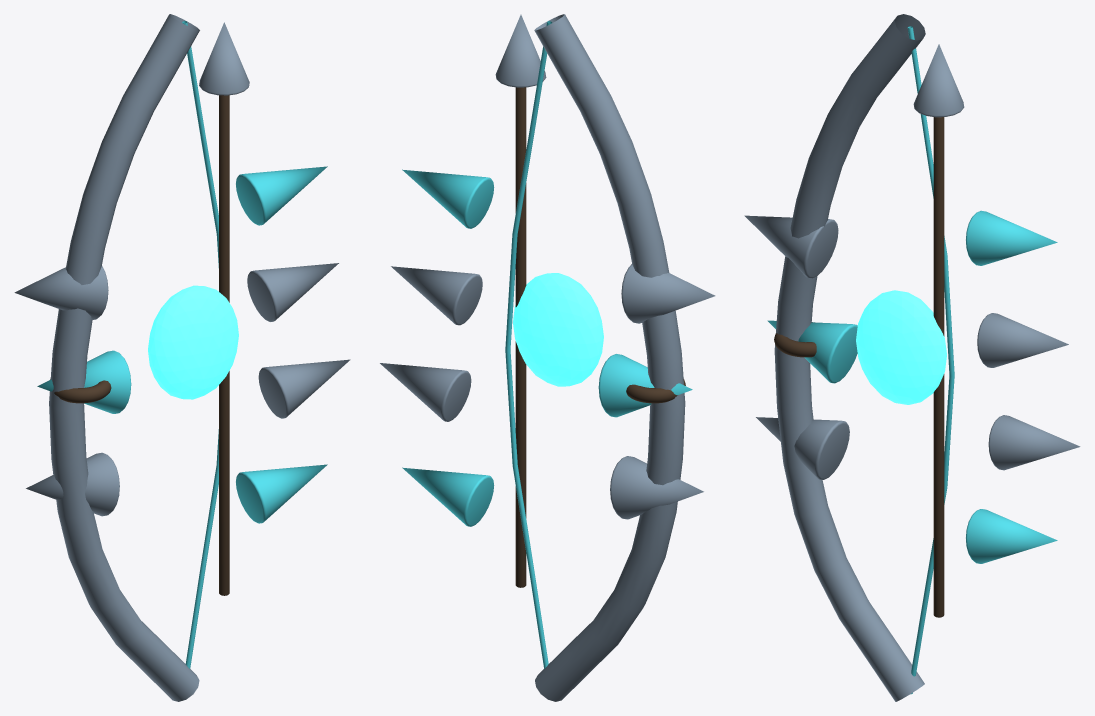
Rendered from bow_v3.glb.
The picture shows the model from 3 angles, left to right: view 1: azimuth 30°, elevation 25°; view 2: azimuth 150°, elevation 25°; view 3: azimuth 330°, elevation 25°; orthographic projection.
Visible parts, largest first — view 1: BOW_BODY_PRIMARY, VARIANT_CORE_EMISSIVE, ARROW_SECONDARY, VARIANT_SPINE_PRIMARY.001, VARIANT_SPINE_ACCENT, VARIANT_SPINE_PRIMARY.002, VARIANT_SPINE_ACCENT.002, VARIANT_SPINE_PRIMARY.003, BOW_STRING_ACCENT, VARIANT_SPINE_PRIMARY, VARIANT_SPINE_ACCENT.001, ARROW_HEAD_PRIMARY (+1 smaller); view 2: BOW_BODY_PRIMARY, VARIANT_CORE_EMISSIVE, ARROW_SECONDARY, BOW_STRING_ACCENT, VARIANT_SPINE_PRIMARY.003, VARIANT_SPINE_PRIMARY, VARIANT_SPINE_PRIMARY.002, VARIANT_SPINE_ACCENT, VARIANT_SPINE_ACCENT.002, VARIANT_SPINE_PRIMARY.001, VARIANT_SPINE_ACCENT.001, ARROW_HEAD_PRIMARY (+1 smaller); view 3: BOW_BODY_PRIMARY, VARIANT_CORE_EMISSIVE, ARROW_SECONDARY, VARIANT_SPINE_PRIMARY.001, VARIANT_SPINE_PRIMARY.002, VARIANT_SPINE_ACCENT.002, VARIANT_SPINE_ACCENT, VARIANT_SPINE_PRIMARY.003, BOW_STRING_ACCENT, VARIANT_SPINE_PRIMARY, VARIANT_SPINE_ACCENT.001, ARROW_HEAD_PRIMARY (+1 smaller).
Part boxes in pixels (x1,y1,x2,y2): BOW_BODY_PRIMARY: [49, 14, 199, 701]; VARIANT_CORE_EMISSIVE: [148, 285, 238, 399]; ARROW_SECONDARY: [219, 95, 229, 595]; VARIANT_SPINE_PRIMARY.001: [258, 359, 350, 418]; VARIANT_SPINE_ACCENT: [236, 464, 327, 523]; VARIANT_SPINE_PRIMARY.002: [247, 263, 338, 321]; VARIANT_SPINE_ACCENT.002: [236, 166, 327, 225]; VARIANT_SPINE_PRIMARY.003: [14, 266, 108, 319]; BOW_STRING_ACCENT: [182, 21, 218, 668]; VARIANT_SPINE_PRIMARY: [26, 452, 119, 516]; VARIANT_SPINE_ACCENT.001: [37, 350, 131, 413]; ARROW_HEAD_PRIMARY: [199, 22, 249, 95]; BOW_BODY_PRIMARY: [534, 14, 685, 701]; VARIANT_CORE_EMISSIVE: [513, 273, 603, 386]; ARROW_SECONDARY: [515, 87, 526, 587]; BOW_STRING_ACCENT: [505, 21, 552, 668]; VARIANT_SPINE_PRIMARY.003: [621, 264, 715, 323]; VARIANT_SPINE_PRIMARY: [610, 456, 703, 519]; VARIANT_SPINE_PRIMARY.002: [391, 266, 482, 325]; VARIANT_SPINE_ACCENT: [402, 467, 494, 526]; VARIANT_SPINE_ACCENT.002: [402, 169, 494, 228]; VARIANT_SPINE_PRIMARY.001: [380, 363, 471, 421]; VARIANT_SPINE_ACCENT.001: [598, 354, 692, 417]; ARROW_HEAD_PRIMARY: [495, 14, 546, 87]; BOW_BODY_PRIMARY: [774, 14, 925, 701]; VARIANT_CORE_EMISSIVE: [856, 290, 946, 404]; ARROW_SECONDARY: [933, 117, 944, 617]; VARIANT_SPINE_PRIMARY.001: [988, 415, 1080, 470]; VARIANT_SPINE_PRIMARY.002: [977, 313, 1068, 367]; VARIANT_SPINE_ACCENT.002: [966, 210, 1057, 265]; VARIANT_SPINE_ACCENT: [966, 509, 1057, 563]; VARIANT_SPINE_PRIMARY.003: [744, 215, 838, 278]; BOW_STRING_ACCENT: [907, 26, 954, 694]; VARIANT_SPINE_PRIMARY: [756, 417, 849, 479]; VARIANT_SPINE_ACCENT.001: [767, 320, 857, 383]; ARROW_HEAD_PRIMARY: [913, 44, 964, 117].
Bounding box in the file's own units: 1.77 × 3.44 × 0.3654.
